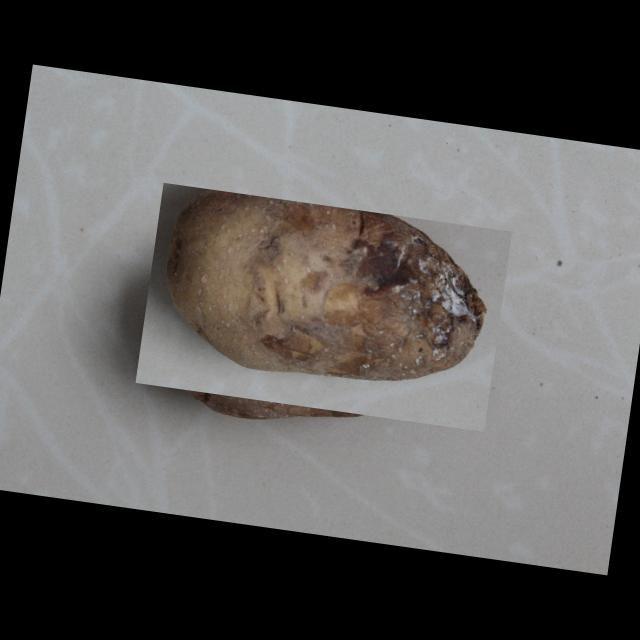Diseased-fungal potato: (135, 183, 512, 432)
